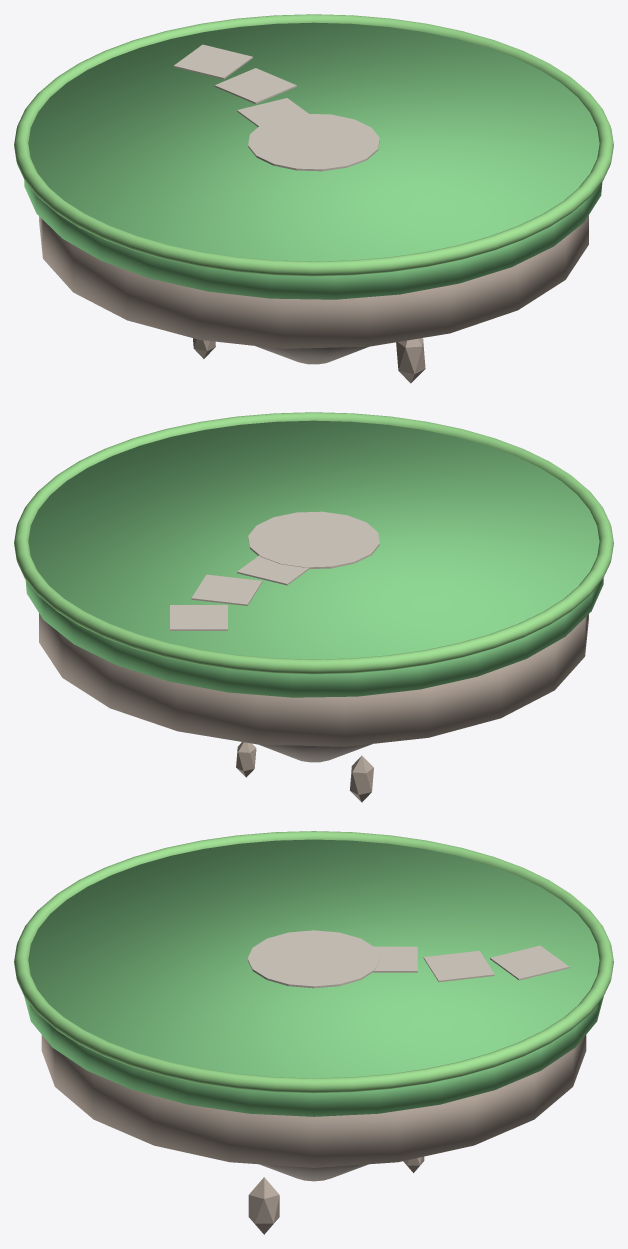
File: island_awakening.glb
3 views of the same model, one above another, from view 1: azimuth 30°, elevation 25°; view 2: azimuth 150°, elevation 25°; view 3: azimuth 270°, elevation 25° (orthographic).
Visible parts, largest first — view 1: GrassPlateau, Cliff_Upper, GrassRim, Path_Spawn, Path_Stone_1, Path_Stone_2, Cliff_Spire, Path_Stone_0, FloatingShard_1; view 2: GrassPlateau, Cliff_Upper, GrassRim, Path_Spawn, Path_Stone_1, Path_Stone_2, Path_Stone_0, Cliff_Spire, FloatingShard_0, FloatingShard_2; view 3: GrassPlateau, Cliff_Upper, GrassRim, Path_Spawn, Path_Stone_2, Path_Stone_1, FloatingShard_1, Path_Stone_0, Cliff_Spire.
Boxes of the visible parts, x1,y1,x2,y2 form: GrassPlateau: (24,22,602,299); Cliff_Upper: (39,215,588,348); GrassRim: (14,14,613,276); Path_Spawn: (248,113,379,171); Path_Stone_1: (214,68,296,103); Path_Stone_2: (173,44,252,79); Cliff_Spire: (255,346,368,364); Path_Stone_0: (237,98,308,126); FloatingShard_1: (396,338,425,383); GrassPlateau: (25,420,603,697); Cliff_Upper: (39,613,588,746); GrassRim: (14,412,613,674); Path_Spawn: (248,511,379,568); Path_Stone_1: (191,574,262,605); Path_Stone_2: (170,605,227,630); Path_Stone_0: (237,555,309,585); Cliff_Spire: (259,744,372,762); FloatingShard_0: (350,755,373,802); FloatingShard_2: (236,742,256,777); GrassPlateau: (24,839,603,1116); Cliff_Upper: (41,1035,586,1167); GrassRim: (14,831,613,1093); Path_Spawn: (247,930,380,988); Path_Stone_2: (490,945,569,980); Path_Stone_1: (423,950,494,982); FloatingShard_1: (248,1177,279,1234); Path_Stone_0: (373,946,417,972); Cliff_Spire: (259,1164,368,1181).
Bounding box in the file's own units: 14.46 × 6.5 × 14.46.
